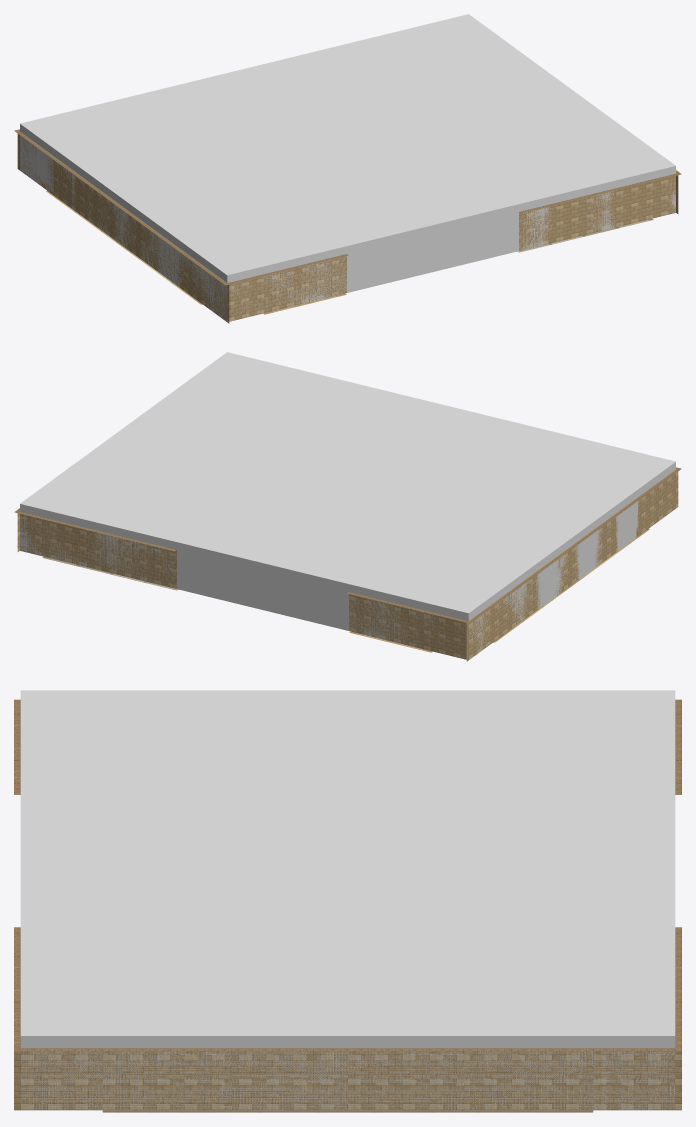
The model's file is de_leon.glb.
3 renders of one model, top to bottom at view 1: azimuth 30°, elevation 25°; view 2: azimuth 150°, elevation 25°; view 3: azimuth 270°, elevation 25°, orthographic. The views are drawn at different scales.
Parts seen in each view (by area): view 1: VIS_TSpawn, VIS_LongA, VIS_LongB, VIS_SiteA, VIS_CTSpawn, VIS_SiteB, VIS_Mid, TSpawn_Wall_South, SiteA_Wall_Side, TSpawn_Wall_East; view 2: VIS_TSpawn, VIS_LongB, VIS_SiteB, VIS_LongA, VIS_CTSpawn, VIS_SiteA, VIS_Mid, TSpawn_Wall_South, SiteB_Wall_Side, TSpawn_Wall_West; view 3: VIS_TSpawn, VIS_CTSpawn, VIS_SiteB, VIS_SiteA, VIS_LongA, VIS_LongB, VIS_Mid, CTSpawn_Wall_North, SiteA_Wall_North, SiteB_Wall_North, SiteA_Wall_Side, SiteB_Wall_Side (+3 smaller).
Boxes of the visible parts, left/top/right/bottom form: VIS_TSpawn: left=20, top=94, right=346, bottom=320; VIS_LongA: left=269, top=147, right=518, bottom=292; VIS_LongB: left=140, top=52, right=388, bottom=151; VIS_SiteA: left=452, top=117, right=675, bottom=250; VIS_CTSpawn: left=379, top=63, right=608, bottom=154; VIS_SiteB: left=312, top=14, right=534, bottom=101; VIS_Mid: left=218, top=109, right=440, bottom=189; TSpawn_Wall_South: left=14, top=130, right=229, bottom=323; SiteA_Wall_Side: left=519, top=173, right=677, bottom=250; TSpawn_Wall_East: left=227, top=254, right=348, bottom=321; VIS_TSpawn: left=349, top=432, right=675, bottom=659; VIS_LongB: left=177, top=485, right=426, bottom=630; VIS_SiteB: left=20, top=455, right=243, bottom=588; VIS_LongA: left=307, top=390, right=555, bottom=489; VIS_CTSpawn: left=87, top=401, right=316, bottom=492; VIS_SiteA: left=161, top=352, right=383, bottom=439; VIS_Mid: left=255, top=447, right=477, bottom=527; TSpawn_Wall_South: left=466, top=468, right=681, bottom=661; SiteB_Wall_Side: left=18, top=511, right=176, bottom=588; TSpawn_Wall_West: left=347, top=592, right=468, bottom=659; VIS_TSpawn: left=20, top=690, right=675, bottom=782; VIS_CTSpawn: left=232, top=915, right=463, bottom=1110; VIS_SiteB: left=464, top=915, right=675, bottom=1110; VIS_SiteA: left=20, top=915, right=231, bottom=1109; VIS_LongA: left=20, top=782, right=266, bottom=914; VIS_LongB: left=429, top=782, right=675, bottom=914; VIS_Mid: left=266, top=782, right=429, bottom=914; CTSpawn_Wall_North: left=232, top=1048, right=463, bottom=1110; SiteA_Wall_North: left=14, top=1048, right=231, bottom=1110; SiteB_Wall_North: left=464, top=1048, right=681, bottom=1110; SiteA_Wall_Side: left=14, top=927, right=20, bottom=1048; SiteB_Wall_Side: left=675, top=927, right=681, bottom=1048.
Size of what is drawn, in the model's own units: 61 by 6.2 by 49.
8 materials, 7 textured.
